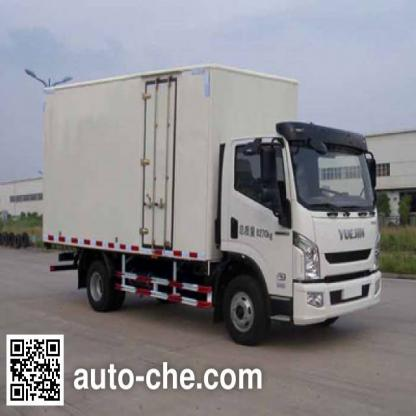normal-truck: (38, 82, 386, 326)
